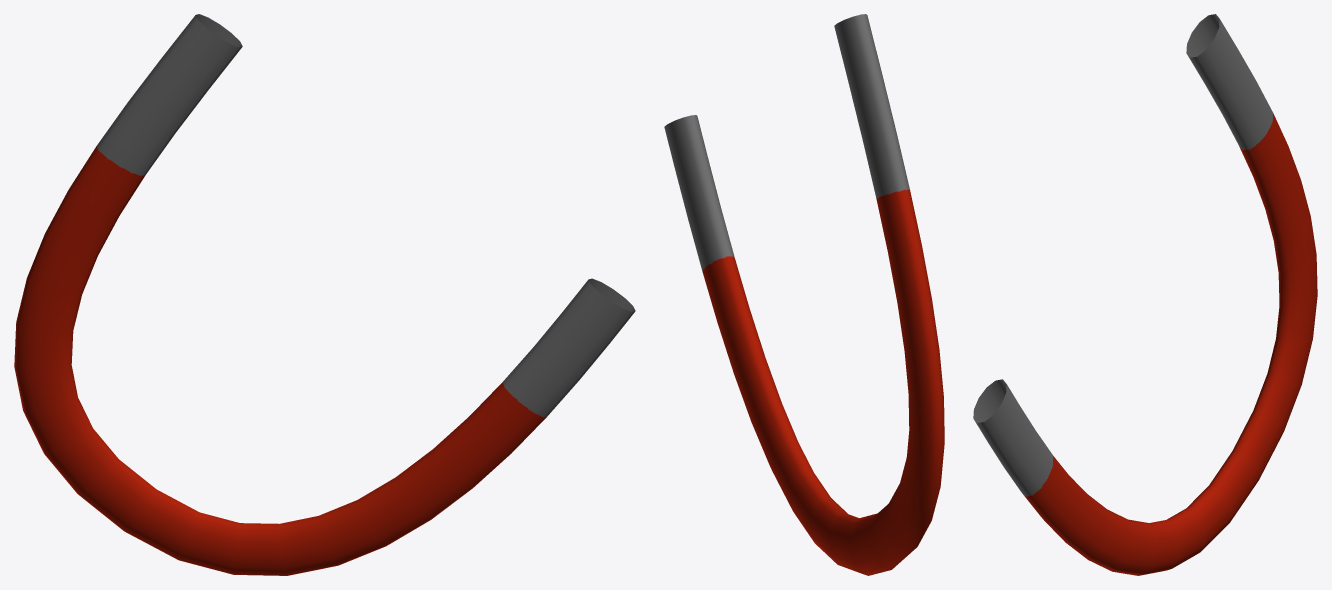
File: Magnet.glb
3 views of the same model, side by side, from view 1: azimuth 30°, elevation 25°; view 2: azimuth 150°, elevation 25°; view 3: azimuth 270°, elevation 25° (orthographic). The views are drawn at different scales.
Parts seen in each view (by area): view 1: BezierCurve.036; view 2: BezierCurve.036; view 3: BezierCurve.036.
Part boxes in pixels (x1,y1,x2,y2): BezierCurve.036: (14,14,635,575); BezierCurve.036: (664,14,944,575); BezierCurve.036: (973,14,1317,575).
Bounding box in the file's own units: 0.7124 × 0.8543 × 0.5055.
1 material, 1 textured.
